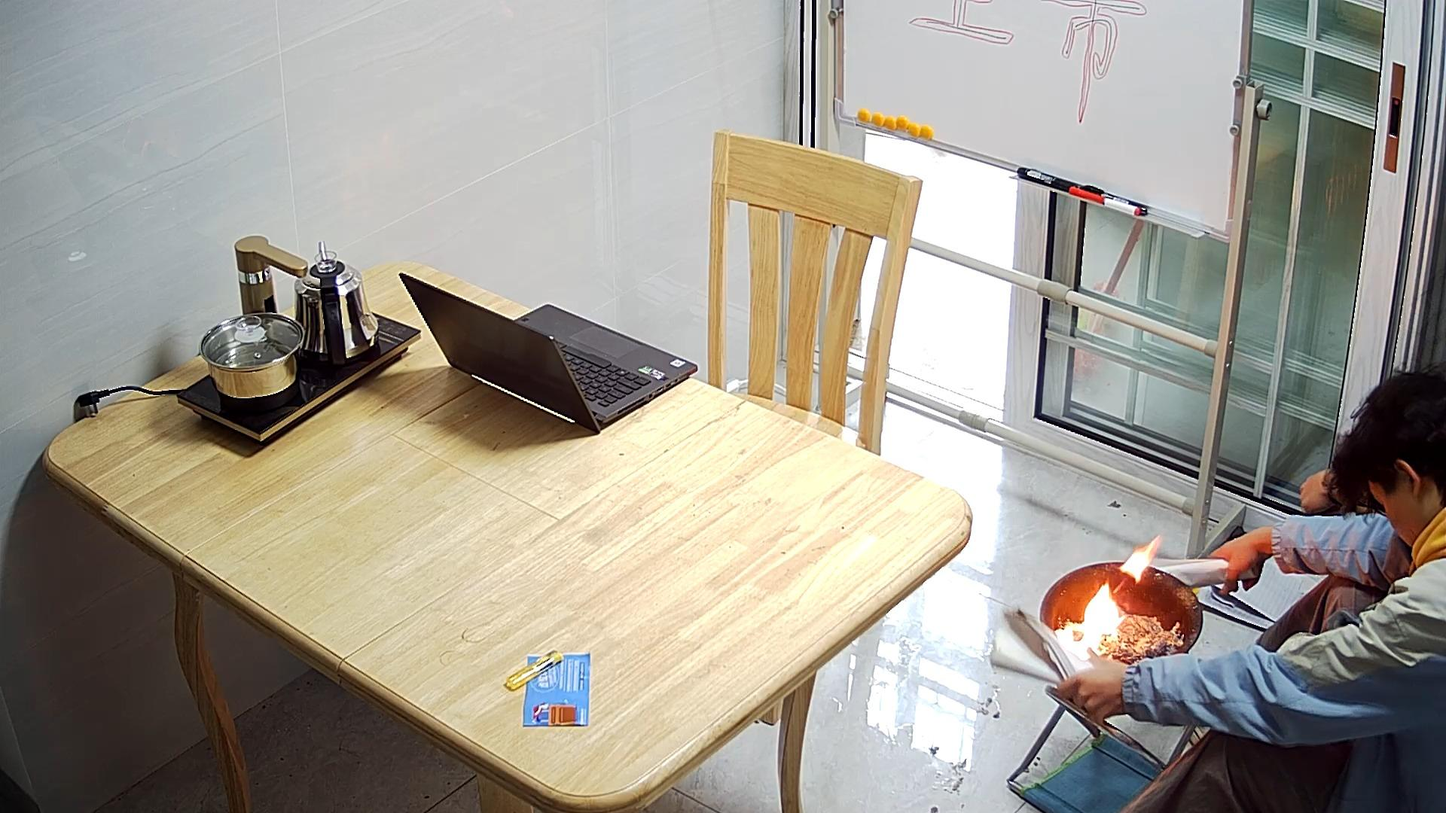fire: (1052, 584, 1124, 668), (1118, 537, 1161, 582)
